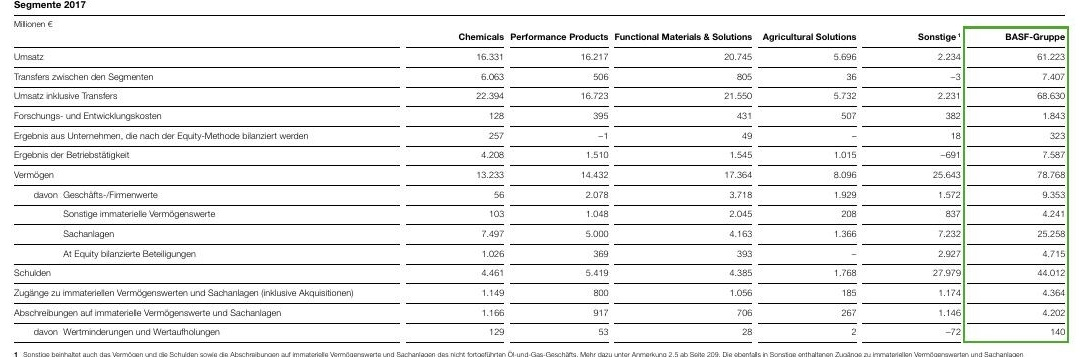table: (0, 0, 1084, 357)
